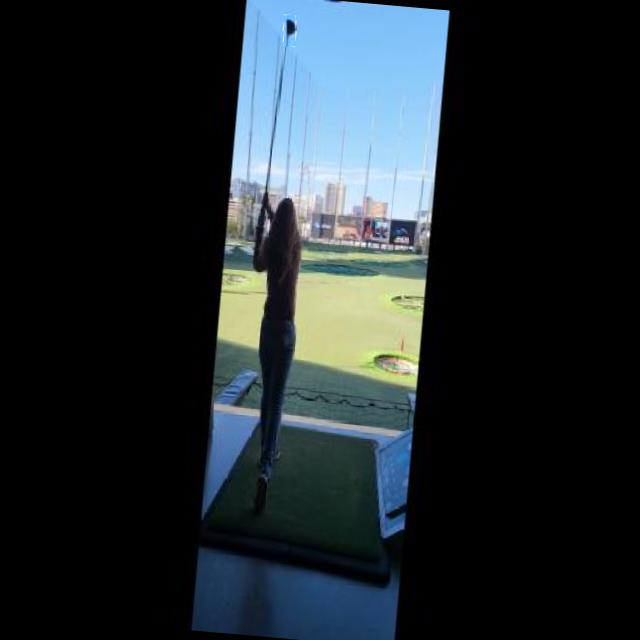club head: (280, 14, 298, 46)
